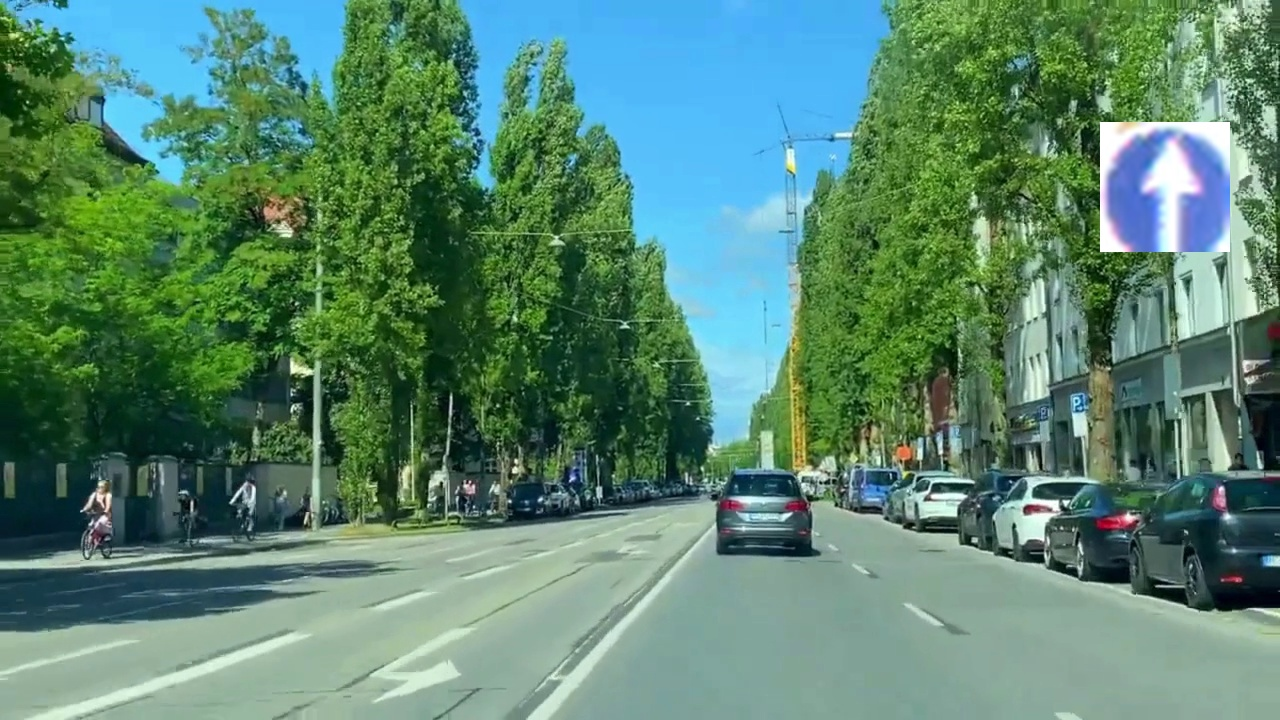Ahead only: (1100, 122, 1230, 252)
